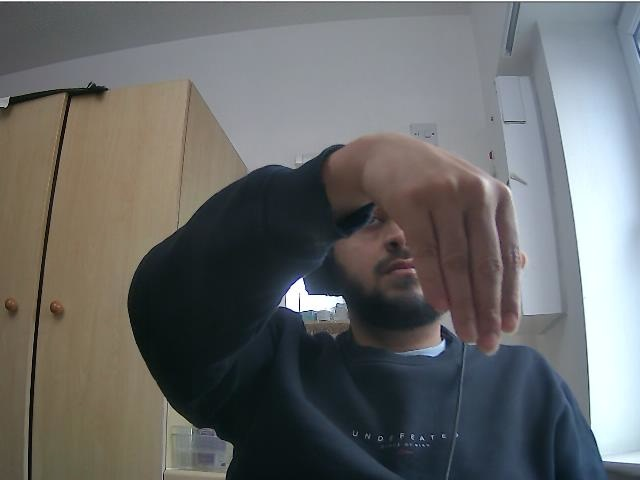down: (404, 135, 526, 348)
